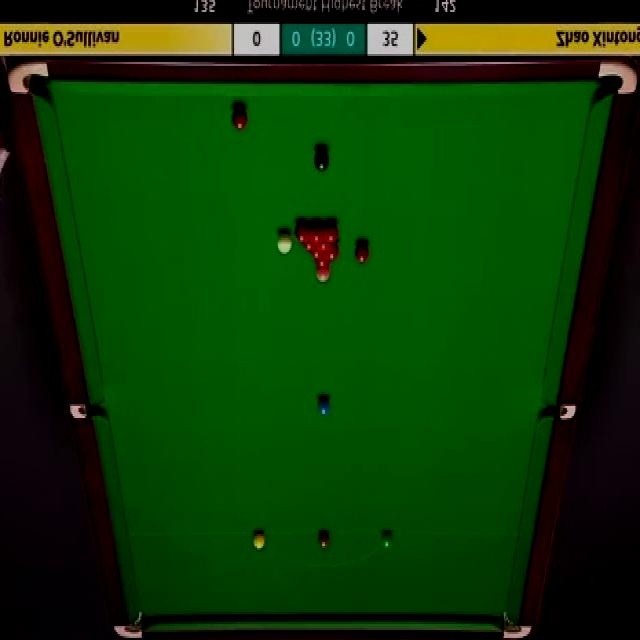black-ball: (314, 148, 331, 173)
blue-ball: (316, 393, 330, 418)
brown-ball: (317, 531, 330, 550)
green-ball: (381, 531, 394, 550)
pink-ball: (314, 268, 331, 283)
red-ball: (321, 221, 341, 246), (352, 242, 370, 264), (231, 108, 247, 132), (323, 240, 339, 260), (294, 224, 310, 244), (309, 223, 322, 245), (315, 254, 330, 269), (308, 245, 325, 257), (302, 238, 318, 250), (317, 241, 331, 251)
white-ball: (276, 228, 292, 256)
yellow-ball: (252, 531, 265, 550)
